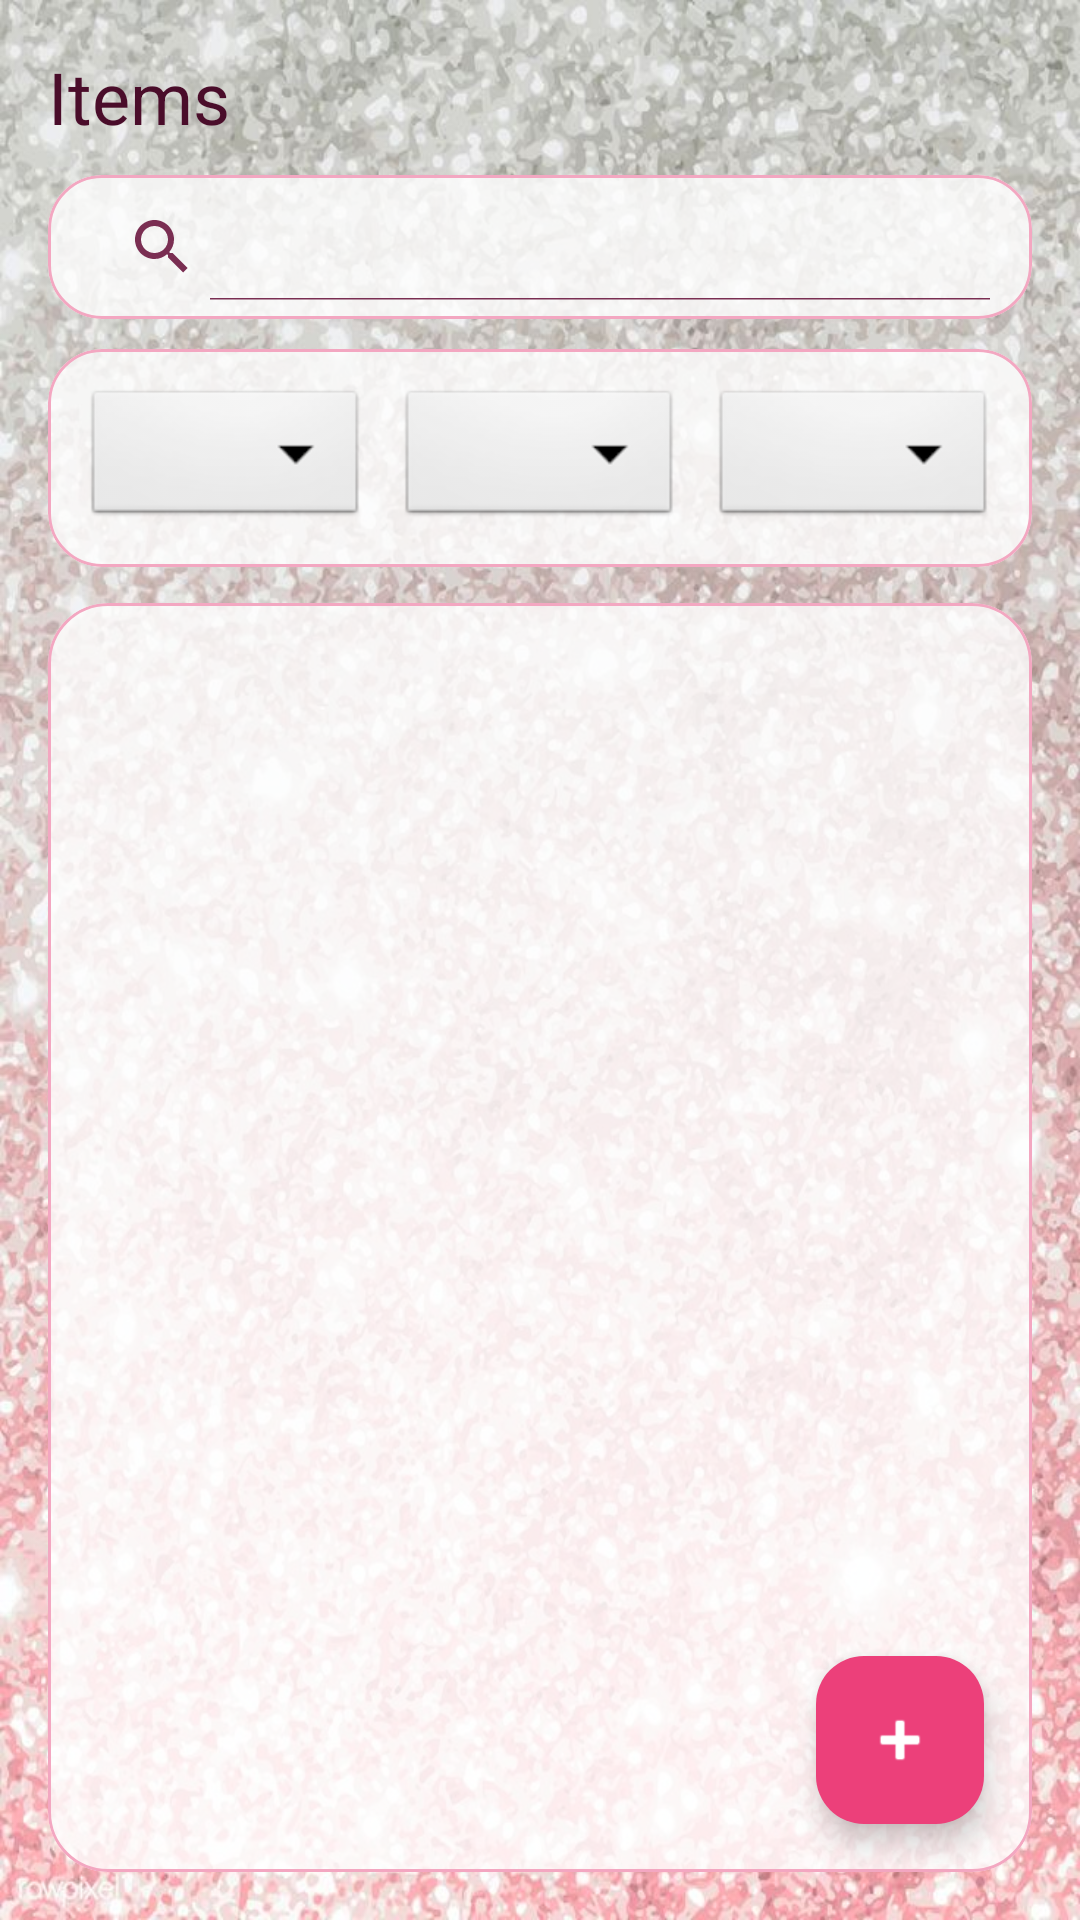

Icons on this 1080px×1920px Android screen, each with the point to tap as (x=x, y=y):
Add Item: (x=900, y=1740)
